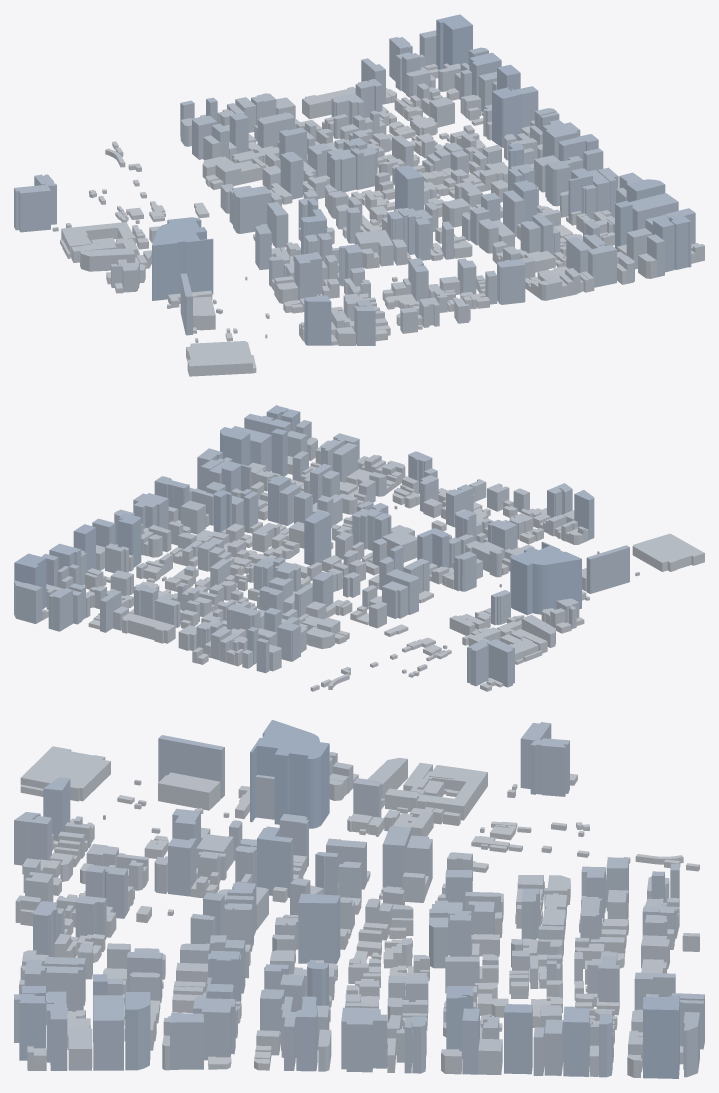
The picture shows the model from 3 angles, top to bottom: view 1: azimuth 30°, elevation 25°; view 2: azimuth 150°, elevation 25°; view 3: azimuth 270°, elevation 25°; orthographic projection. The views are drawn at different scales.
Size of the model in its own units: 536 by 54.51 by 489.
